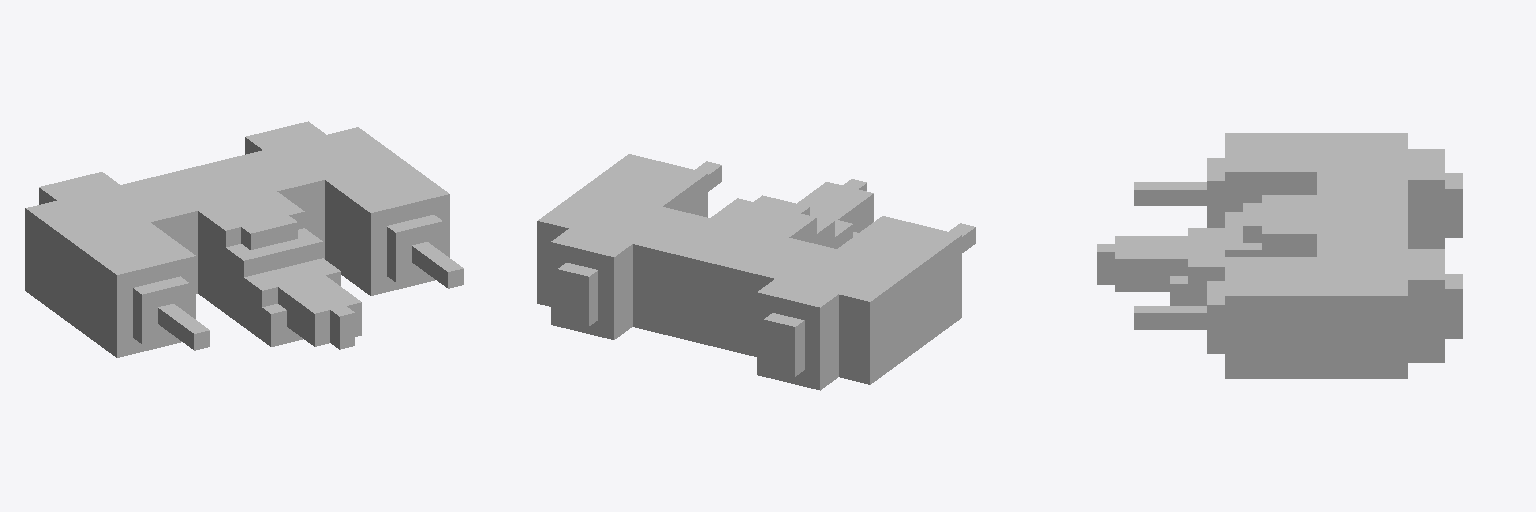
Rendered from PlayerShip_1.obj.
3 views of the same model, side by side, from view 1: azimuth 30°, elevation 25°; view 2: azimuth 150°, elevation 25°; view 3: azimuth 270°, elevation 25° (orthographic).
Visible parts, largest first — view 1: object 1; view 2: object 1; view 3: object 1.
Part boxes in pixels (x1,y1,x2,y2): object 1: (25, 121, 463, 357); object 1: (537, 154, 975, 390); object 1: (1097, 133, 1462, 378).
Size of the model in its own units: 2.1 by 0.5 by 2.